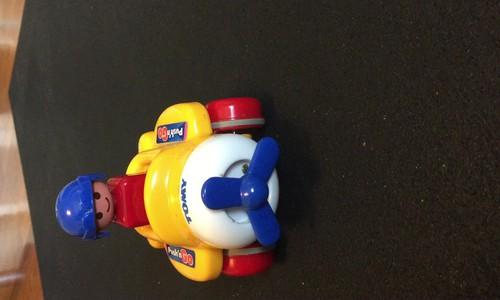toy: (48, 95, 298, 279)
